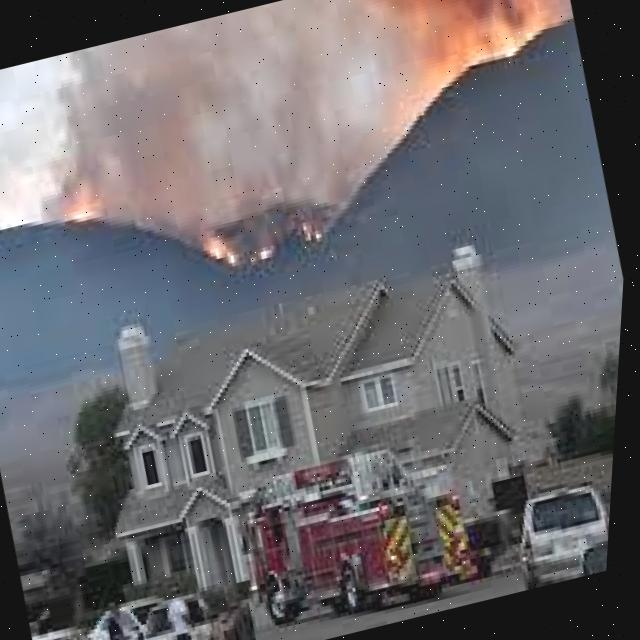smoke: (65, 0, 574, 239)
